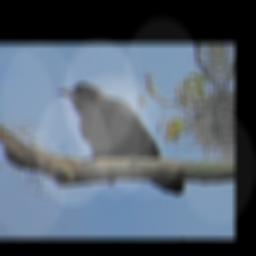Crow: (57, 72, 187, 209)
